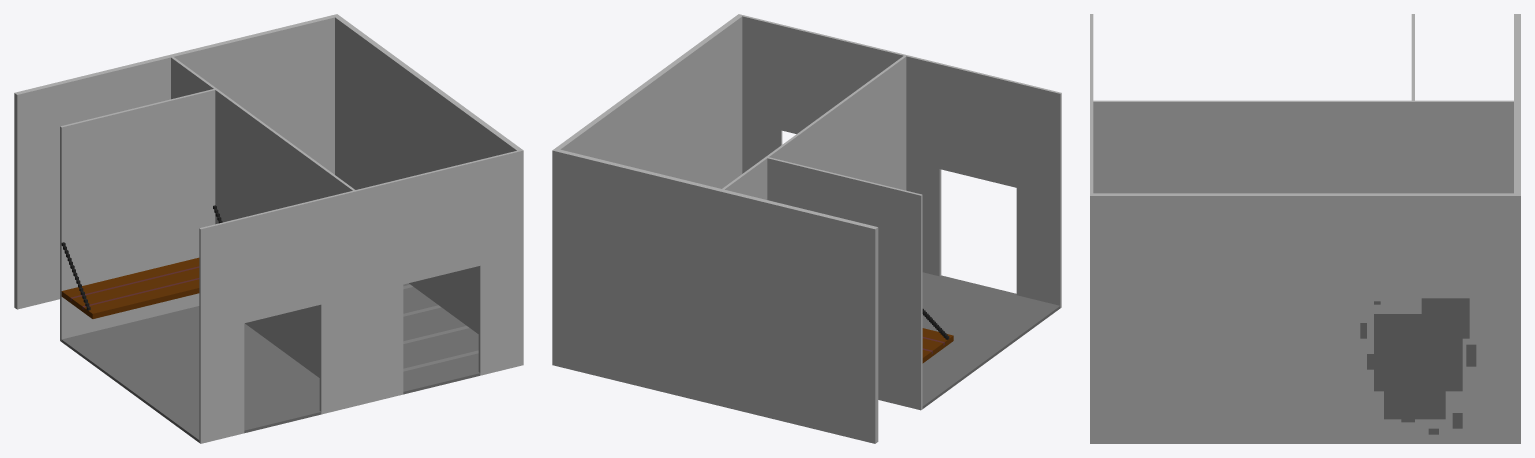
The model's file is 2x2 second (1)-2.obj.
3 views of the same model, side by side, from view 1: azimuth 30°, elevation 25°; view 2: azimuth 150°, elevation 25°; view 3: azimuth 270°, elevation 25° (orthographic). The views are drawn at different scales.
Parts seen in each view (by area): view 1: 2x2 second (1)-2; view 2: 2x2 second (1)-2; view 3: 2x2 second (1)-2.
Part boxes in pixels (x1,y1,x2,y2): 2x2 second (1)-2: (14,14,523,443); 2x2 second (1)-2: (552,14,1061,443); 2x2 second (1)-2: (1090,14,1520,443).
Bounding box in the file's own units: 126 × 80 × 126.
Materials: 1 (1 with a texture image).
